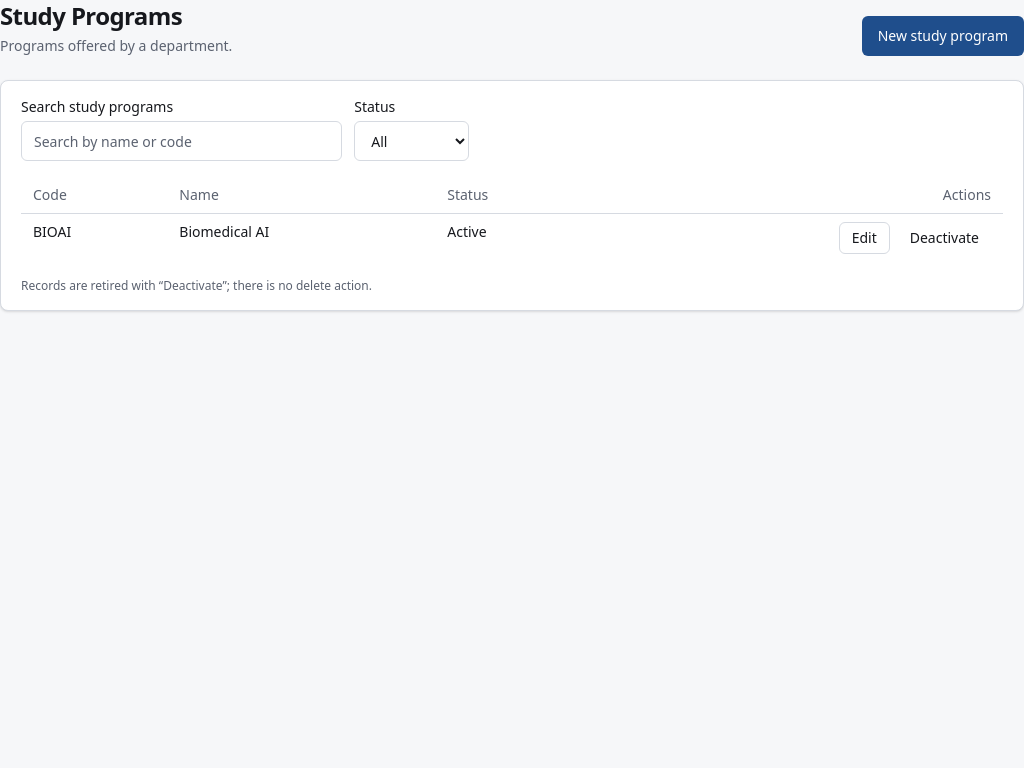
it: academic resource page — create and edit › blocks a submit that fails client validation
The width and height of the screenshot is (1024, 768).
Step 1. Click the button "New study program" → [943, 36], box [862, 16, 1023, 56]
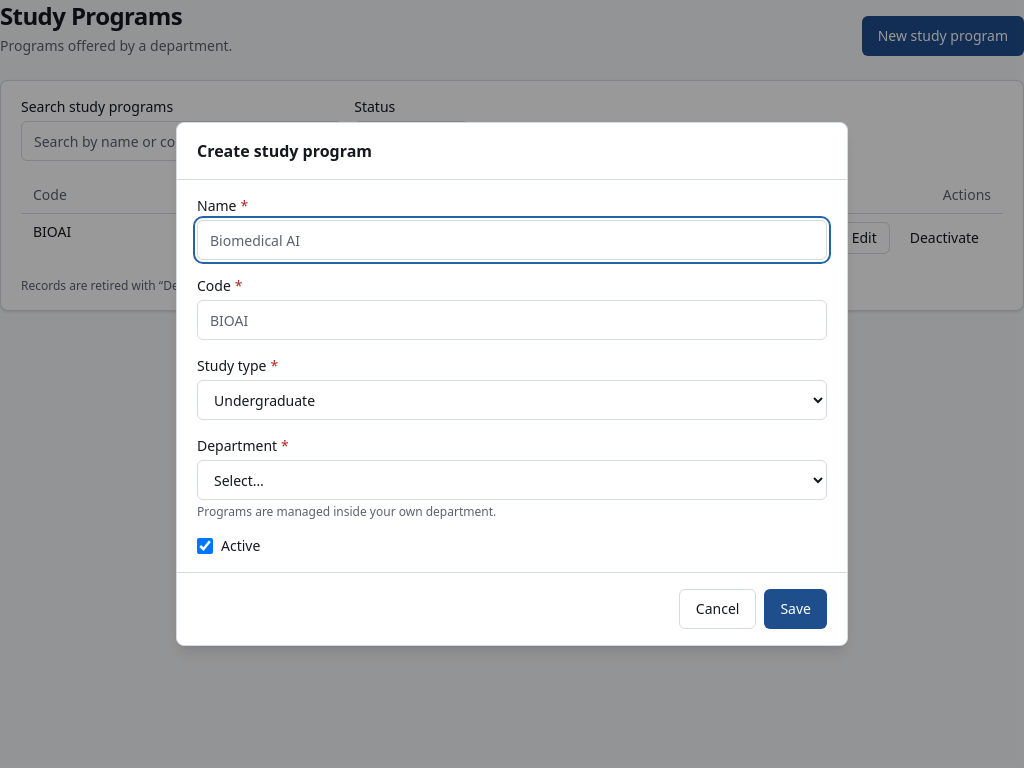
Step 2. Click the button "Save" → [796, 609], box [764, 589, 827, 629]
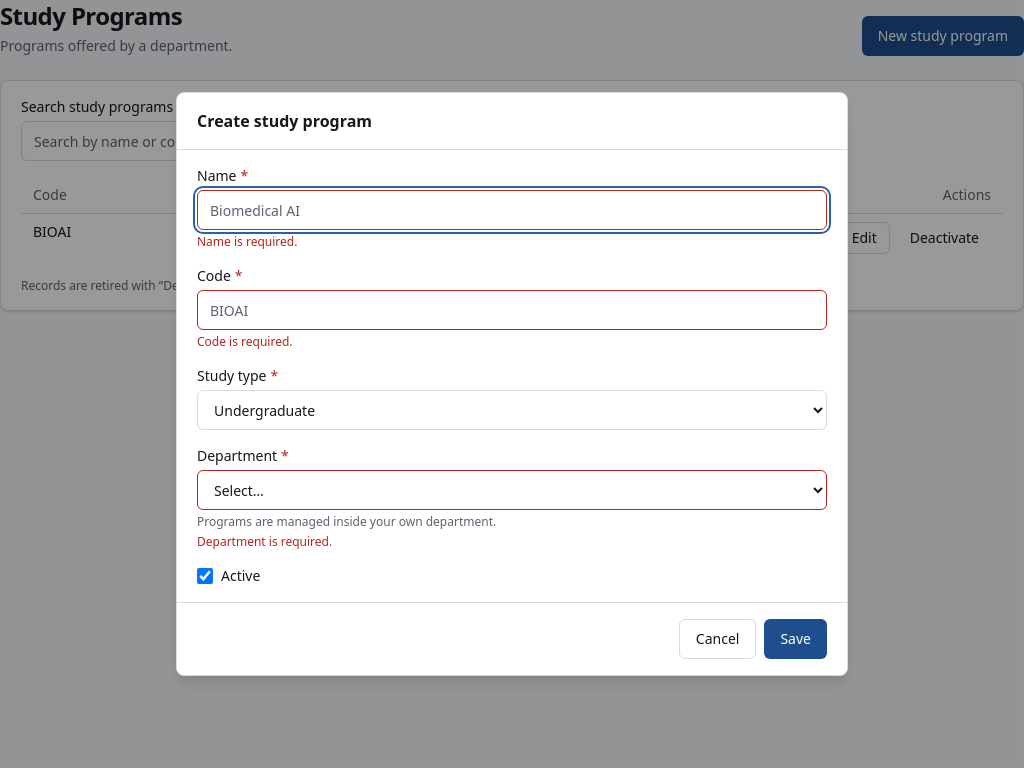
Expected: the text "Name is required." is shown, [197, 233, 297, 250]
Expected: the text "Code is required." is shown, [197, 333, 292, 350]
Expected: the text "Department is required." is shown, [197, 533, 332, 550]
